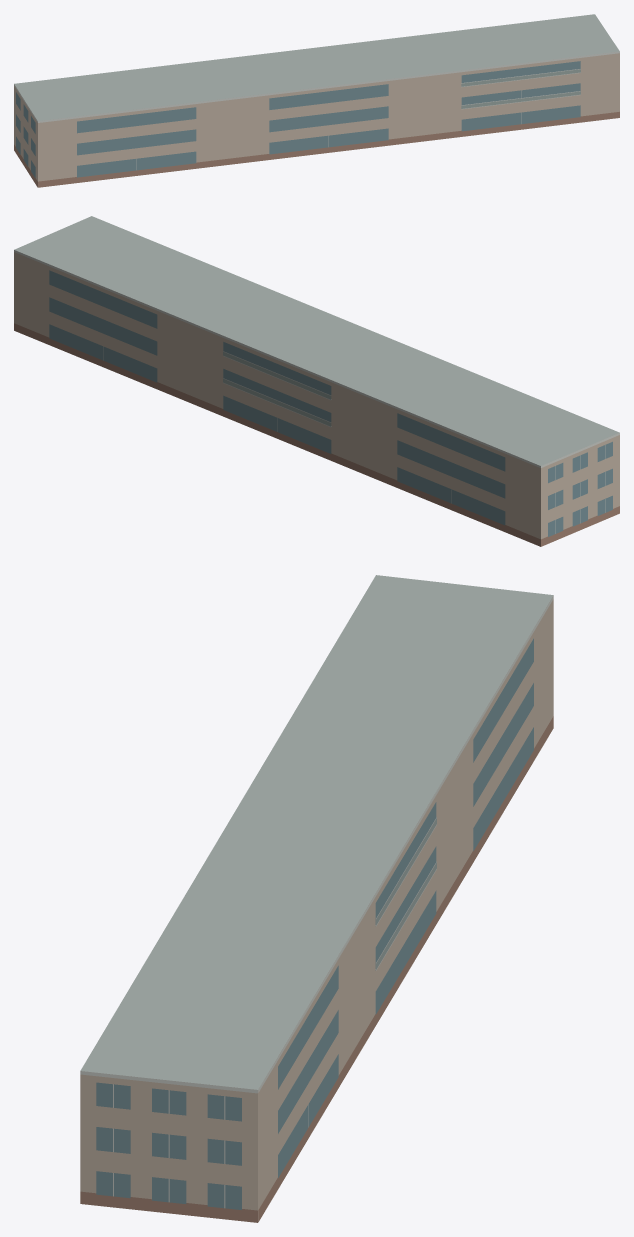
Rendered from survey-upis-32944044.glb.
The picture shows the model from 3 angles, top to bottom: view 1: azimuth 30°, elevation 25°; view 2: azimuth 150°, elevation 25°; view 3: azimuth 270°, elevation 25°; orthographic projection. The views are drawn at different scales.
Parts seen in each view (by area): view 1: survey-upis-32944044.tmp; view 2: survey-upis-32944044.tmp; view 3: survey-upis-32944044.tmp.
Part boxes in pixels (x1,y1,x2,y2): survey-upis-32944044.tmp: [14, 14, 619, 187]; survey-upis-32944044.tmp: [14, 216, 619, 546]; survey-upis-32944044.tmp: [80, 575, 553, 1222].
Size of the model in its own units: 76.01 by 9.15 by 29.54.
